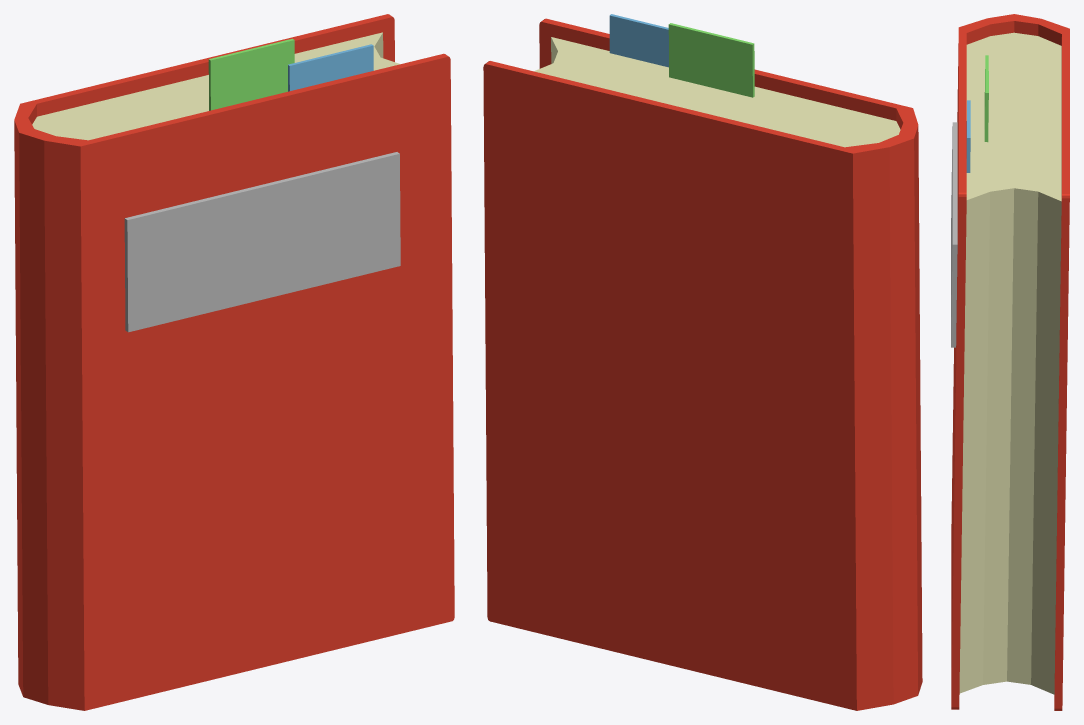
The model's file is Book_01.fbx.
The picture shows the model from 3 angles, left to right: view 1: azimuth 30°, elevation 25°; view 2: azimuth 150°, elevation 25°; view 3: azimuth 270°, elevation 25°; orthographic projection. The views are drawn at different scales.
Visible parts, largest first — view 1: book_01; view 2: book_01; view 3: book_01.
Boxes of the visible parts, x1,y1,x2,y2 form: book_01: (14,14,454,710); book_01: (483,14,922,710); book_01: (951,14,1069,710).
Bounding box in the file's own units: 22.44 × 32.22 × 6.25.
